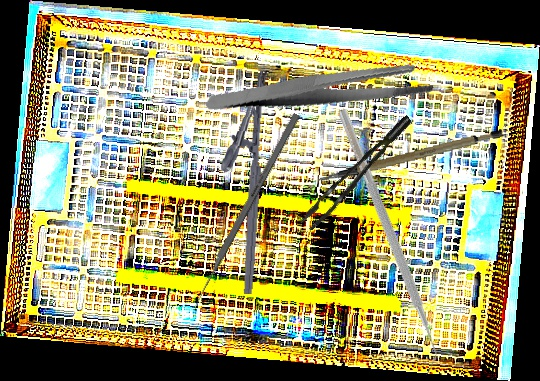Chopper: (243, 107, 526, 378)
Dressing Forceps: (205, 34, 437, 144)
Needle Holder: (212, 68, 269, 295)
Pusher: (190, 112, 301, 310)
Scalpel Handle: (312, 126, 507, 183)
Tissue Forceps: (290, 114, 426, 233)
